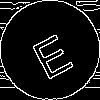E: (25, 25, 76, 81)
